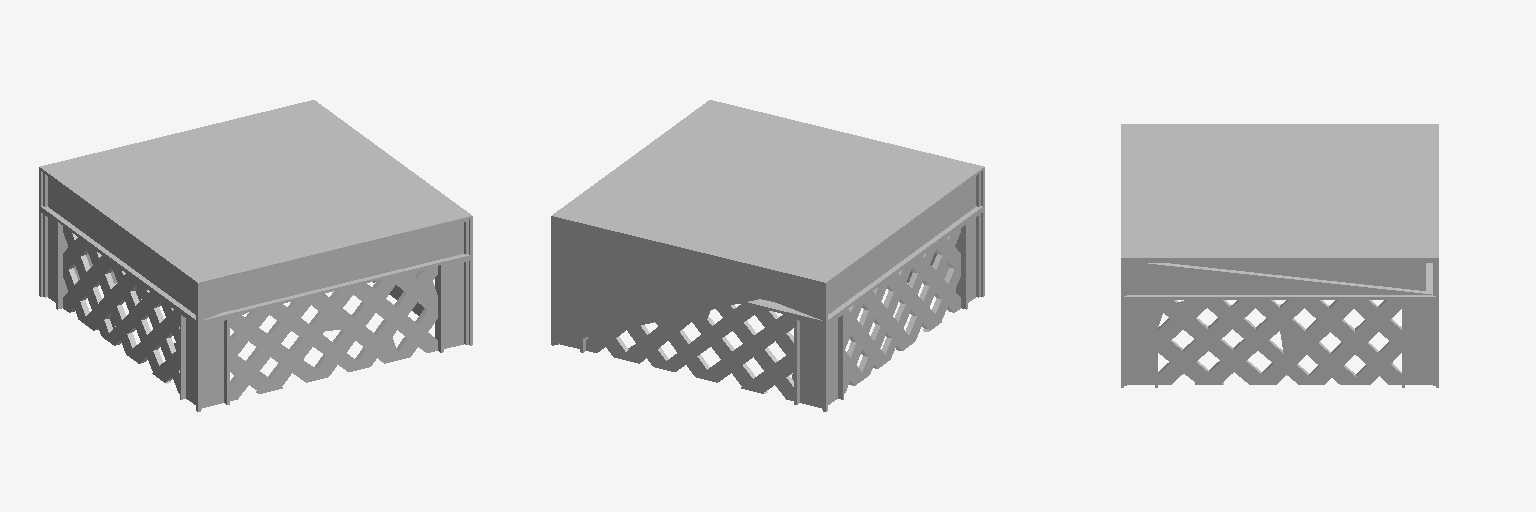
File: Half_Crate__188617_.obj
The picture shows the model from 3 angles: view 1: azimuth 30°, elevation 25°; view 2: azimuth 150°, elevation 25°; view 3: azimuth 270°, elevation 25°; orthographic projection.
Parts seen in each view (by area): view 1: Half_Crate__188617__temp_Half_Crate__188617_.002; view 2: Half_Crate__188617__temp_Half_Crate__188617_.002; view 3: Half_Crate__188617__temp_Half_Crate__188617_.002.
Boxes of the visible parts, <box> form: Half_Crate__188617__temp_Half_Crate__188617_.002: <box>39,100,472,411</box>; Half_Crate__188617__temp_Half_Crate__188617_.002: <box>551,100,984,411</box>; Half_Crate__188617__temp_Half_Crate__188617_.002: <box>1121,124,1438,387</box>.
Size of the model in its own units: 0.3334 by 0.15 by 0.3334.